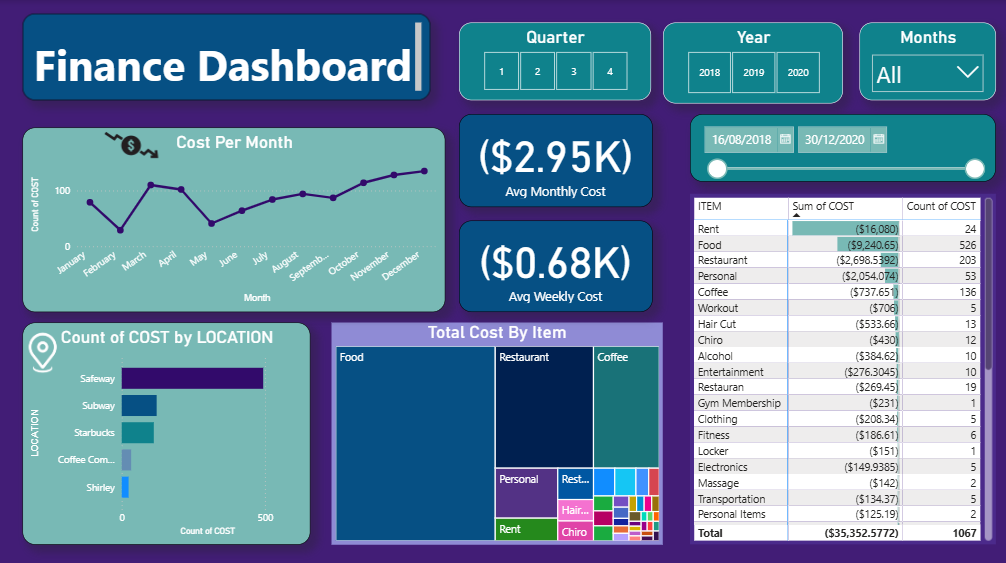

What the dashboard file says about the page in this screenshot:
{"tool":"powerbi","page":{"name":"Page 1","canvas":[1280,720],"ordinal":0},"visuals":[{"type":"slicer","title":"Quarter","fields":{"Values":["data.QuarterNumber"]},"box":[578.3,28.3,241.9,98.3],"z":0},{"type":"slicer","title":"Year","fields":{"Values":["data.YearColumn"]},"box":[835.3,28.3,226.8,102],"z":2000},{"type":"slicer","title":"Date","fields":{"Values":["data.Date"]},"box":[869.3,143.6,385.5,85],"z":3000},{"type":"treemap","title":"Total Cost By Item","fields":{"Group":["data.ITEM"],"Values":["CountNonNull(data.COST)"]},"box":[417.6,406.3,417.6,279.7],"z":4000},{"type":"lineChart","title":"Cost Per Month","fields":{"Y":["CountNonNull(data.COST)"],"Category":["data.Date.Variation.Date Hierarchy.Month"]},"box":[28.3,160.6,532.9,232.4],"z":5000},{"type":"pivotTable","fields":{"Rows":["data.ITEM"],"Values":["Sum(data.COST)","CountNonNull(data.COST)"]},"box":[869.3,243.8,385.5,442.2],"z":6000},{"type":"barChart","fields":{"Category":["data.LOCATION"],"Y":["CountNonNull(data.COST)"]},"box":[28.3,406.3,362.8,279.7],"z":7000},{"type":"card","fields":{"Values":["data.Avg Monthly Cost"]},"box":[578.3,143.6,243.8,117.2],"z":8000},{"type":"card","fields":{"Values":["data.Avg Weekly Cost"]},"box":[578.3,277.8,243.8,115.3],"z":9000},{"type":"textbox","box":[28.3,17,514,109.6],"z":10000},{"type":"image","box":[15.1,406.3,77.5,75.6],"z":11000},{"type":"image","box":[0,120.9,336.4,122.8],"z":12000},{"type":"slicer","title":"Months","fields":{"Values":["data.MonthName"]},"box":[1082.8,28.3,172,98.3],"z":12001}]}

Visuals, with their boxes in screenshot pixels (x1, y1, x2, y2), scaled from the page's 1280x720 canvas onto the 1006x563 screenshot:
"Quarter" slicer: x1=455, y1=22, x2=645, y2=99
"Year" slicer: x1=656, y1=22, x2=835, y2=102
"Date" slicer: x1=683, y1=112, x2=986, y2=179
"Total Cost By Item" treemap: x1=328, y1=318, x2=656, y2=536
"Cost Per Month" lineChart: x1=22, y1=126, x2=441, y2=307
pivotTable - data.ITEM x Sum(data.COST): x1=683, y1=191, x2=986, y2=536
barChart - data.LOCATION x CountNonNull(data.COST): x1=22, y1=318, x2=307, y2=536
card - data.Avg Monthly Cost: x1=455, y1=112, x2=646, y2=204
card - data.Avg Weekly Cost: x1=455, y1=217, x2=646, y2=307
textbox: x1=22, y1=13, x2=426, y2=99
image: x1=12, y1=318, x2=73, y2=377
image: x1=0, y1=95, x2=264, y2=191
"Months" slicer: x1=851, y1=22, x2=986, y2=99
